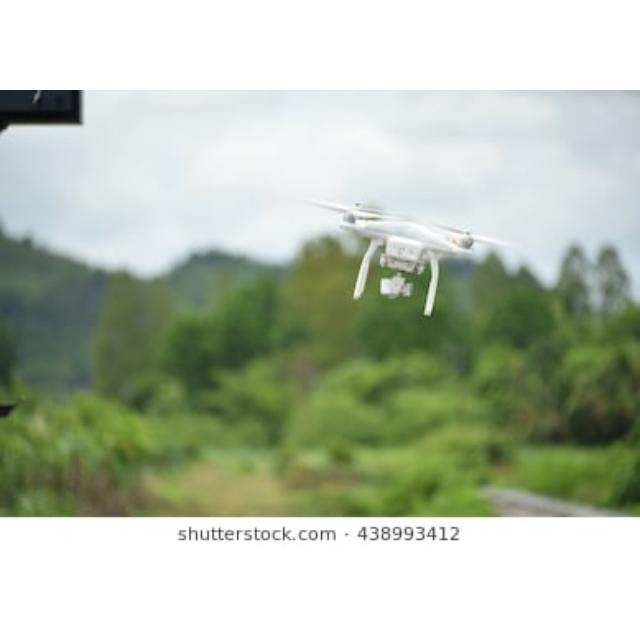Drones: (324, 200, 512, 310)
